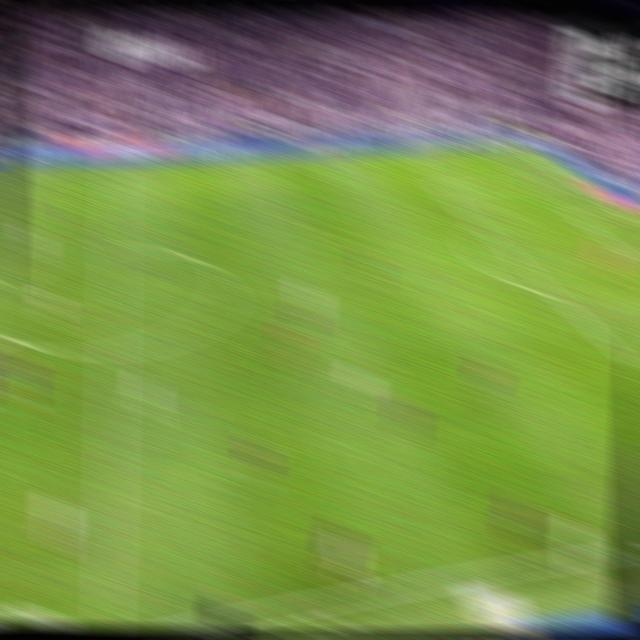bigarea_top_inner: (432, 179, 454, 198)
bigarea_top_outter: (556, 171, 580, 188)
bottom_arc_area_intersection: (543, 284, 568, 306)
corner: (508, 142, 530, 155)
halfcircle_bottom: (98, 334, 126, 365)
halfcircle_top: (100, 235, 128, 263)
midline_top_intersection: (104, 157, 128, 176)
smallarea_top_inner: (570, 211, 589, 224)
top_arc_area_intersection: (474, 220, 498, 240)
